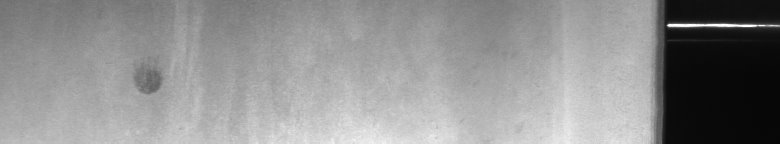fi: (132, 64, 167, 100)
